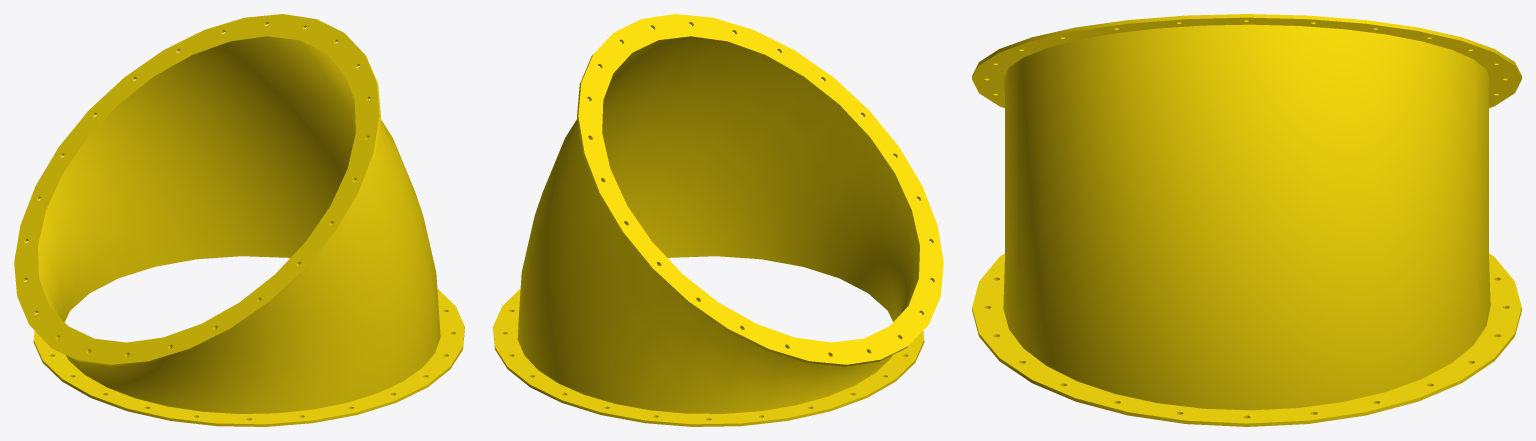
Rendered from Curved-38.fbx.
The picture shows the model from 3 angles, left to right: view 1: azimuth 30°, elevation 25°; view 2: azimuth 150°, elevation 25°; view 3: azimuth 270°, elevation 25°; orthographic projection. The views are drawn at different scales.
Visible parts, largest first — view 1: dreje-38-obj; view 2: dreje-38-obj; view 3: dreje-38-obj.
Part boxes in pixels (x1,y1,x2,y2): dreje-38-obj: (14,14,464,426); dreje-38-obj: (493,14,943,426); dreje-38-obj: (972,14,1521,426).
Size of the model in its own units: 90.99 by 62.85 by 88.
